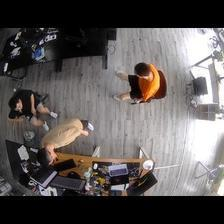normal: (37, 121, 100, 160), (5, 86, 62, 128), (115, 60, 162, 106)
